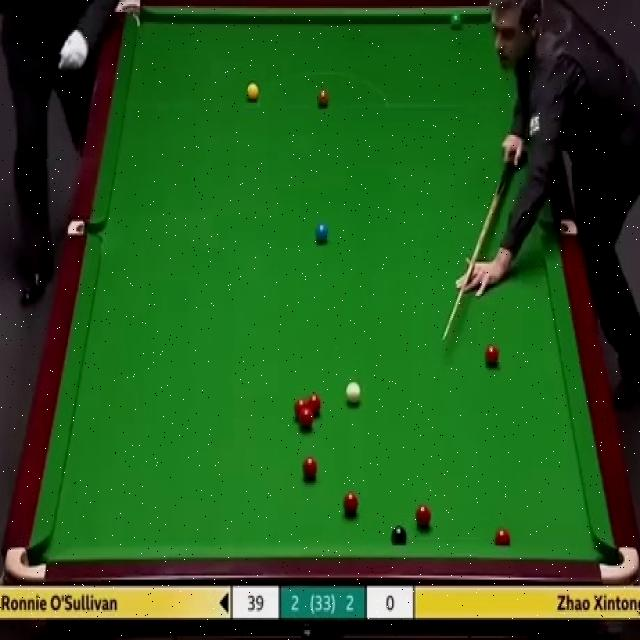black-ball: (390, 524, 407, 544)
blue-ball: (315, 222, 330, 244)
brown-ball: (316, 87, 331, 110)
green-ball: (450, 12, 463, 28)
red-ball: (415, 502, 432, 530), (343, 490, 359, 518), (303, 455, 319, 481), (485, 344, 499, 367), (300, 408, 313, 431), (308, 393, 321, 416), (496, 528, 511, 547), (296, 400, 308, 412)
white-ball: (345, 380, 362, 404)
yellow-ball: (246, 82, 259, 102)
